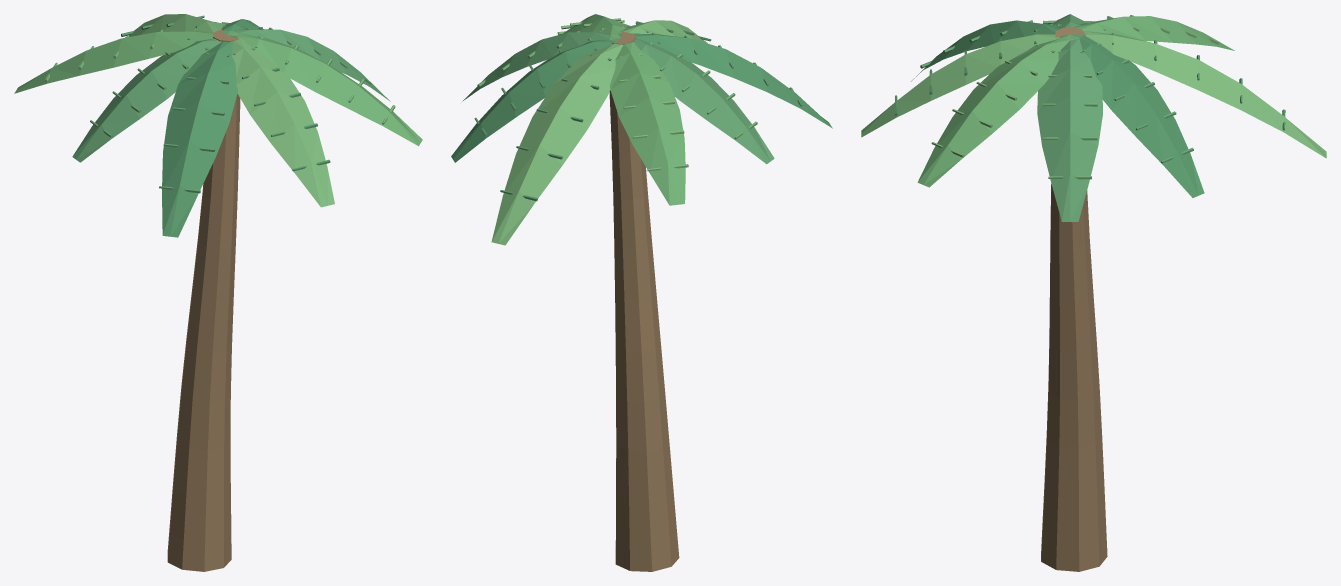
The model's file is palm_tree.glb.
3 renders of one model, left to right at view 1: azimuth 30°, elevation 25°; view 2: azimuth 150°, elevation 25°; view 3: azimuth 270°, elevation 25°, orthographic. The views are drawn at different scales.
Visible parts, largest first — view 1: Palm_Tree; view 2: Palm_Tree; view 3: Palm_Tree.
Boxes of the visible parts, x1=… form: Palm_Tree: x1=14, y1=14, x2=422, y2=571; Palm_Tree: x1=451, y1=14, x2=832, y2=571; Palm_Tree: x1=861, y1=14, x2=1326, y2=571.
Size of the model in its own units: 2.39 by 3.81 by 2.99.
